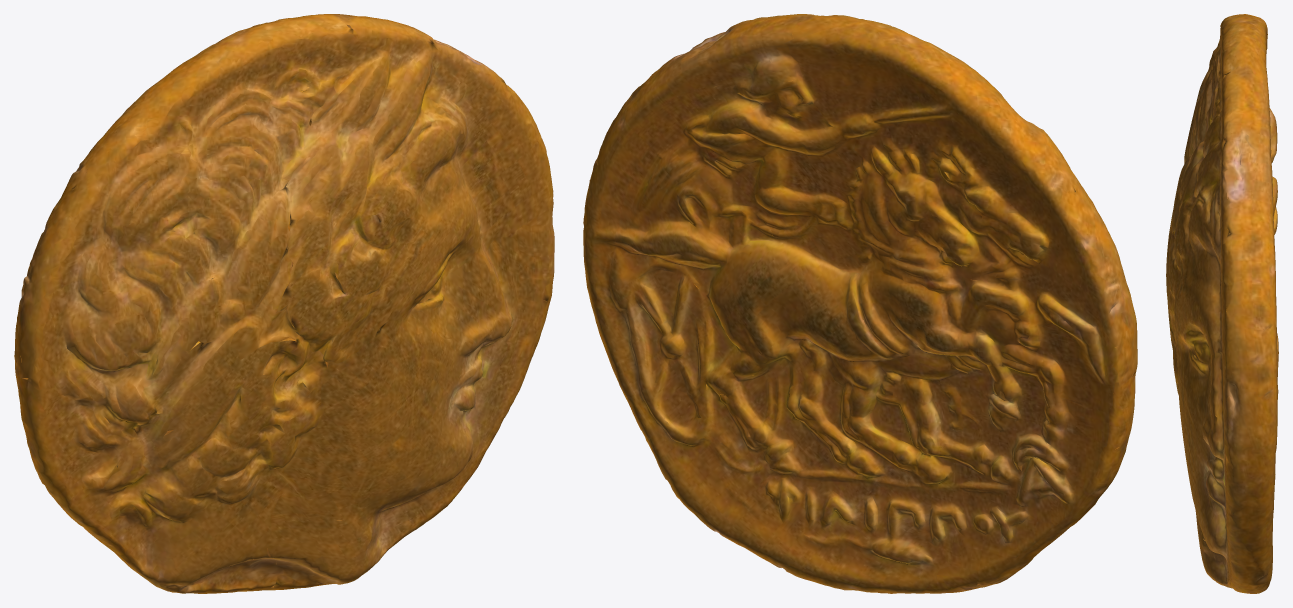
The model's file is Philip_Coin.glb.
3 renders of one model, left to right at view 1: azimuth 30°, elevation 25°; view 2: azimuth 150°, elevation 25°; view 3: azimuth 270°, elevation 25°, orthographic. The views are drawn at different scales.
Parts seen in each view (by area): view 1: Object_2; view 2: Object_2; view 3: Object_2.
Part boxes in pixels (left/top/right/bottom): Object_2: left=14, top=14, right=554, bottom=593; Object_2: left=583, top=14, right=1137, bottom=593; Object_2: left=1166, top=14, right=1278, bottom=593.
Size of the model in its own units: 0.0178 by 0.018 by 0.0035.
Materials: 1 (1 with a texture image).
